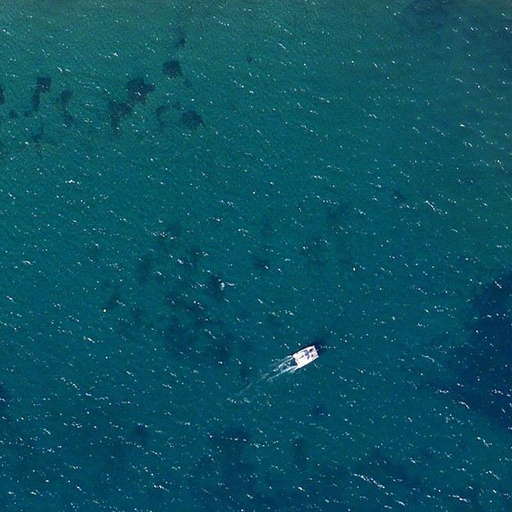ship: (290, 342, 321, 374)
